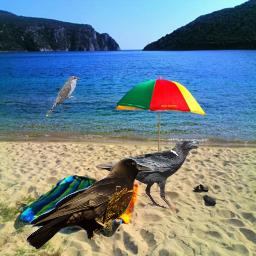Crow: (26, 155, 155, 253), (95, 138, 200, 209)
Cuckoo: (46, 76, 81, 117)
